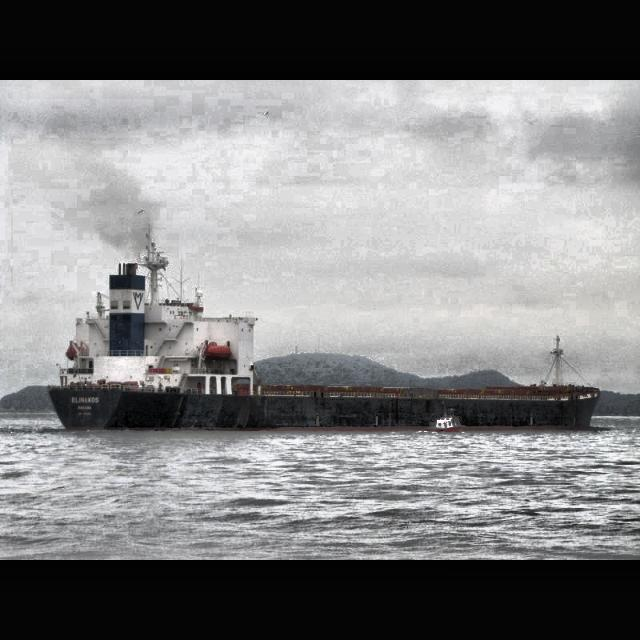bulk_carrier: (49, 231, 602, 435)
tug: (427, 407, 465, 435)
